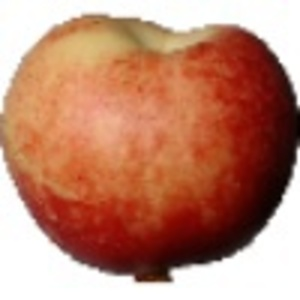nectarina: (1, 11, 300, 288)
